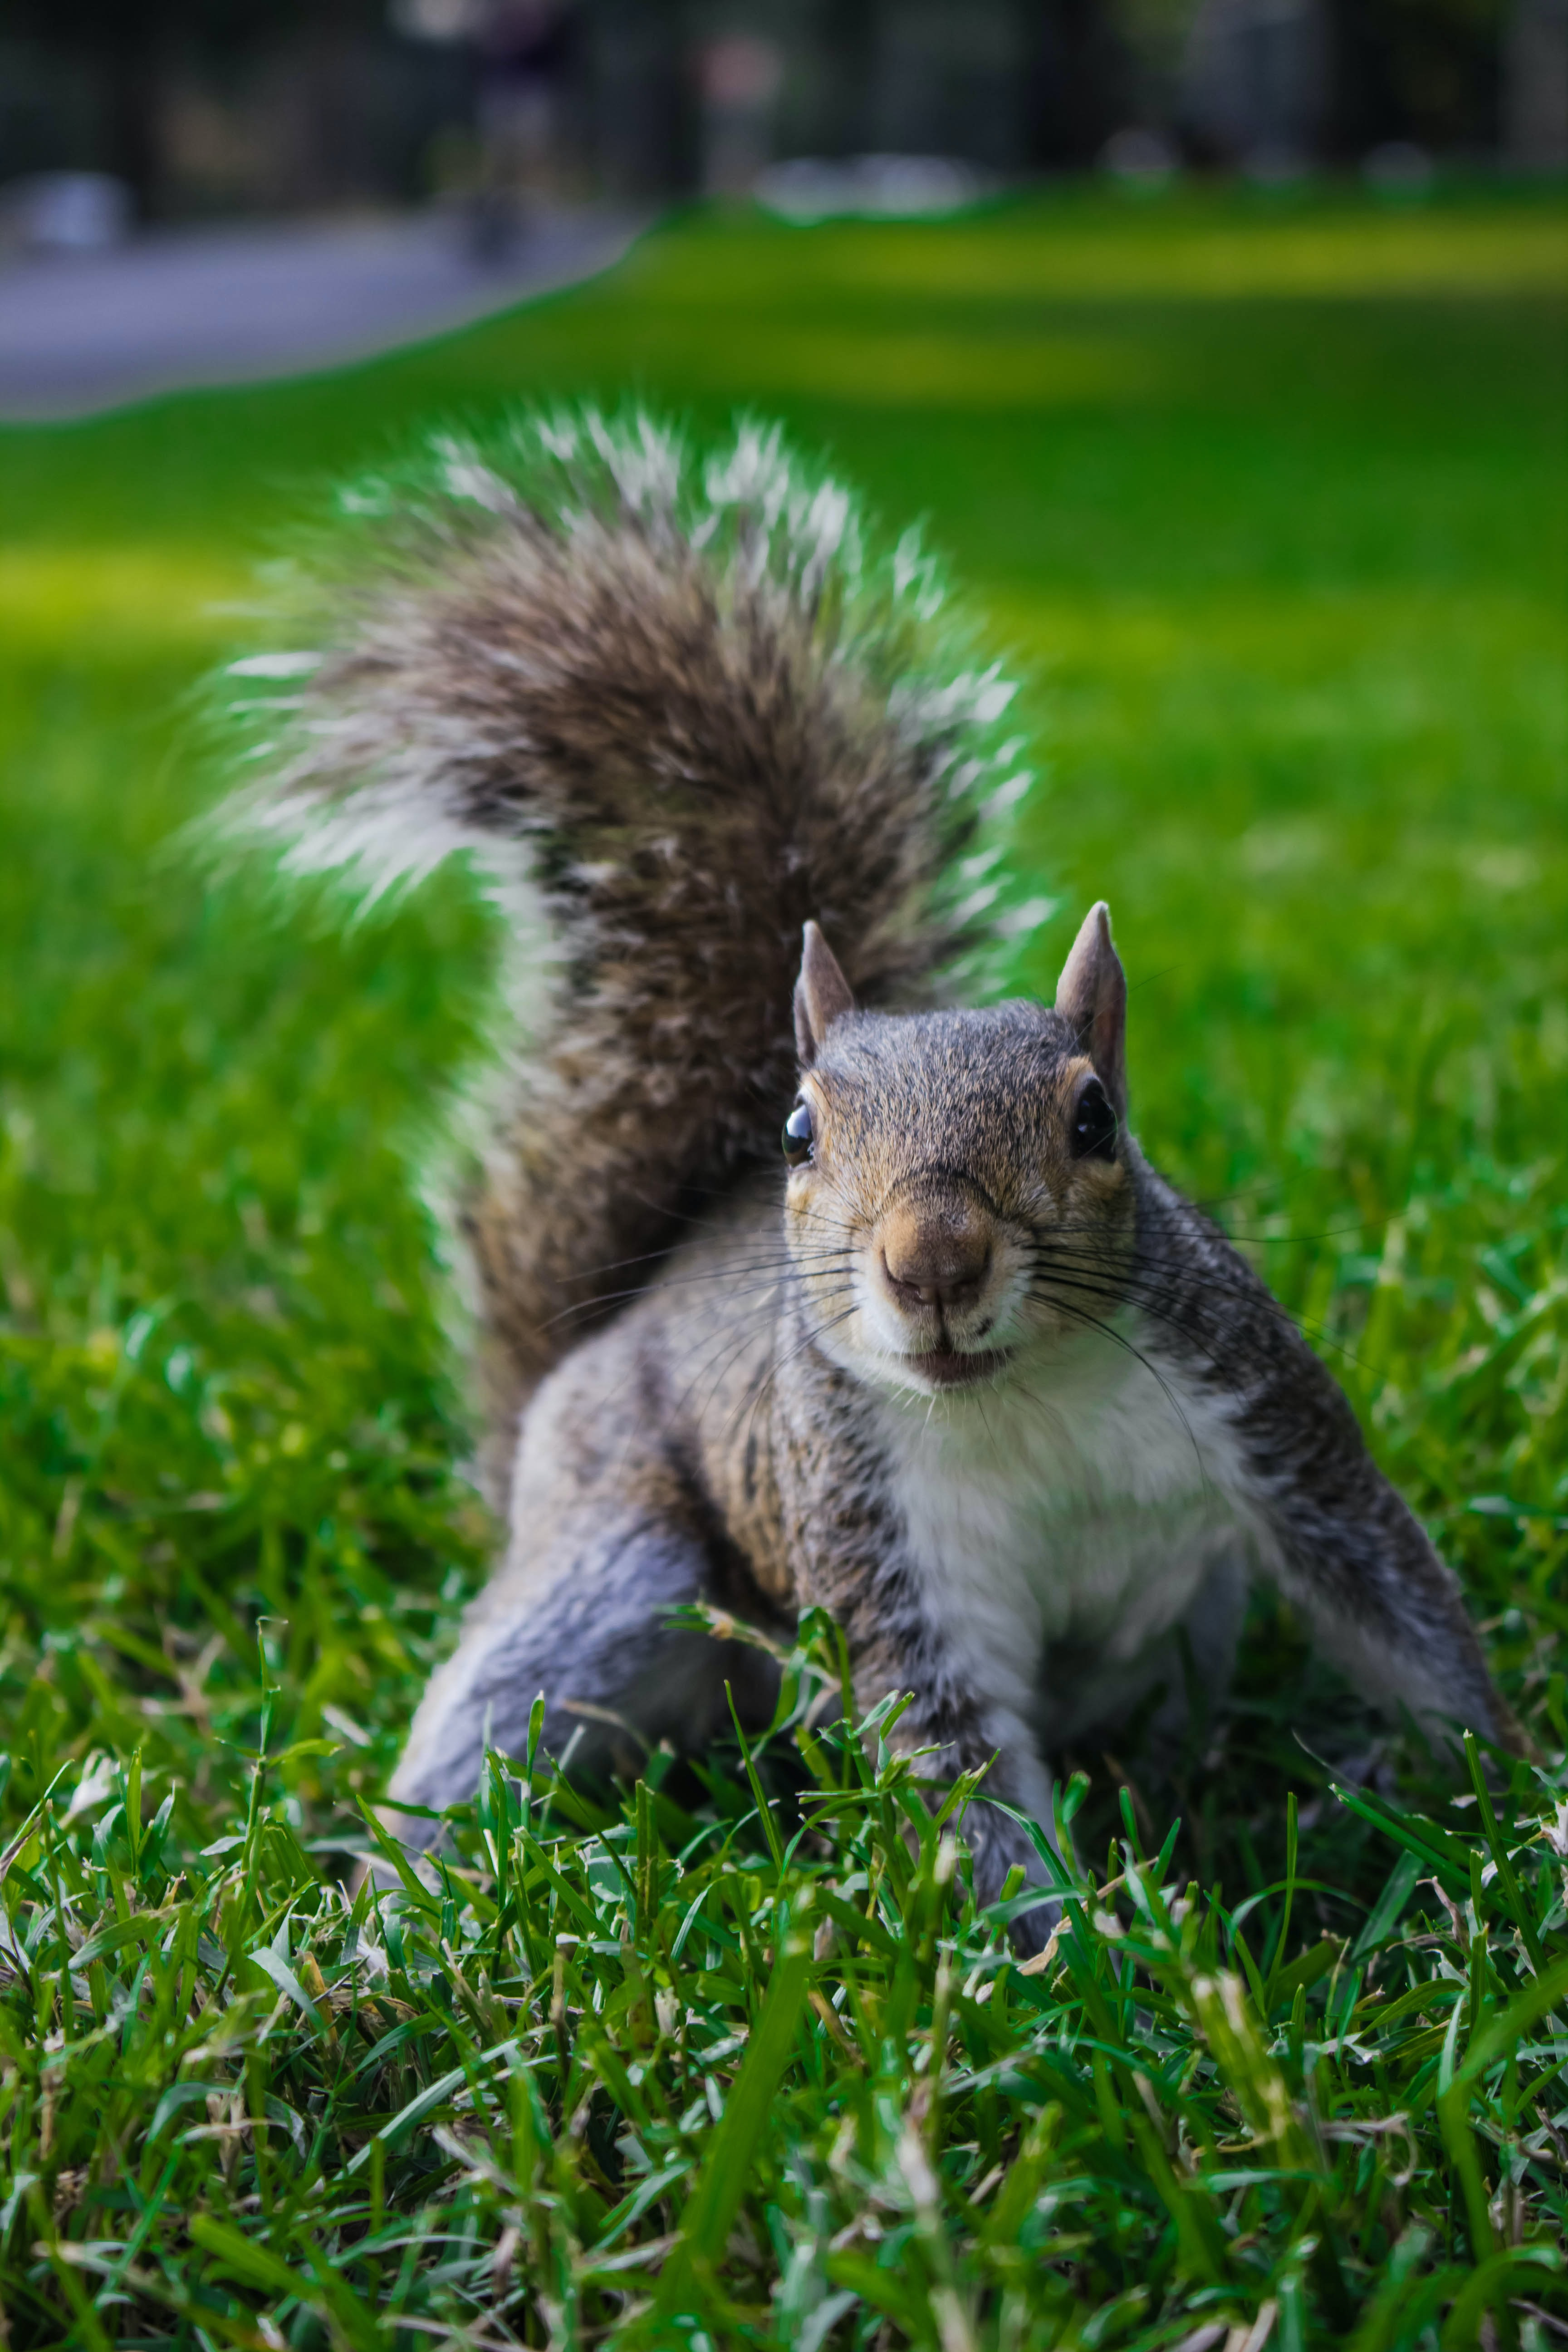squirrel: (317, 471, 1509, 1915)
